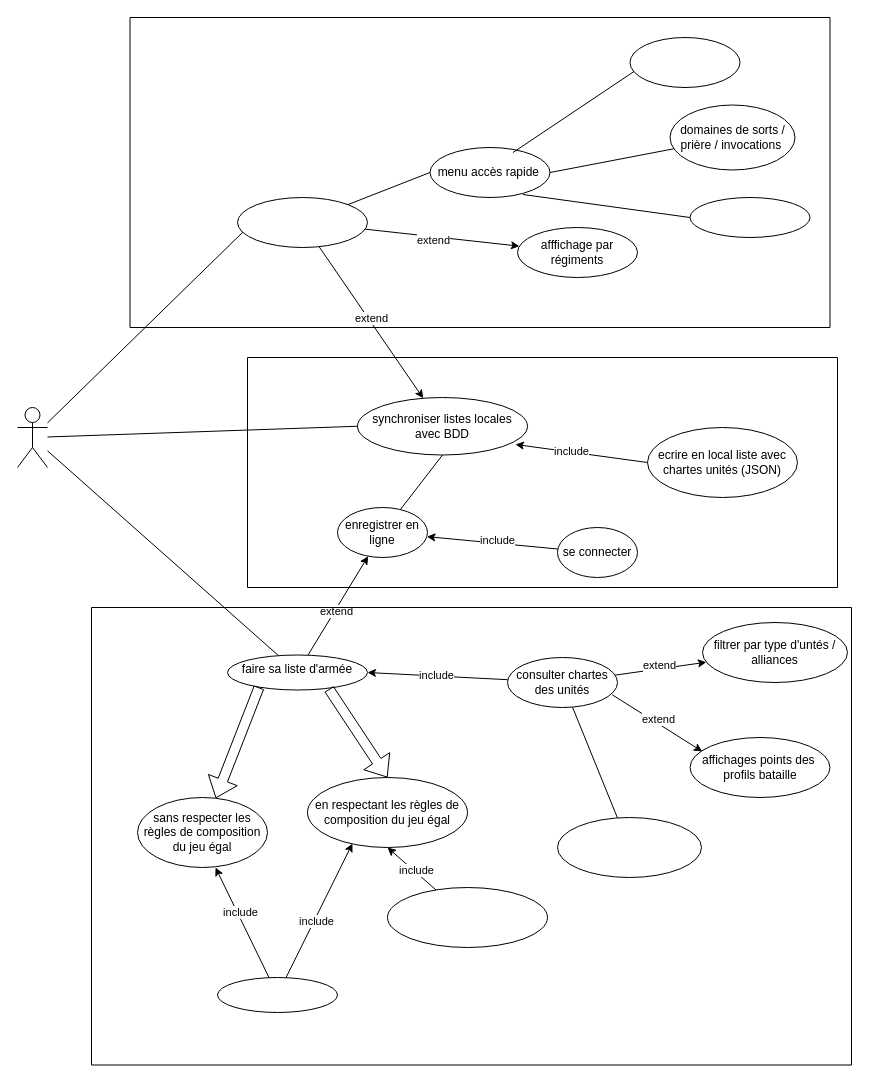
This 869x1083 diagram has some shape labels left out. The centre of each missing label's shape, as x and y in pixels:
chartes d'unités: the point at 749,217
choix optimisations: the point at 277,994
consulter régiments de renom: the point at 629,847
consulter ses listes d'armés: the point at 302,222
optimisations: the point at 684,62
respect des restrictions de régiments par héros: the point at 467,917
User: the point at 32,437
